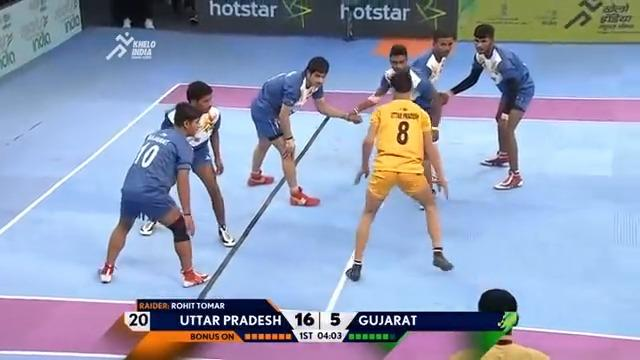Player: (97, 101, 210, 287), (246, 55, 362, 206), (138, 80, 236, 247), (438, 23, 535, 190), (449, 287, 550, 359)
Raider: (345, 69, 454, 281)
referee: (353, 28, 455, 204)
